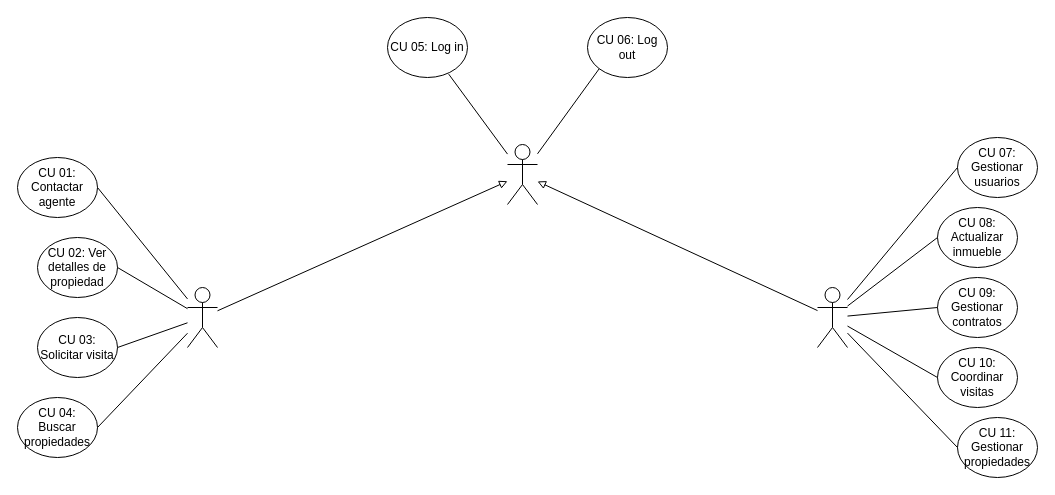
Some shapes in this 1055 by 495 pixel diagram are drawn without their labels. Here are the shapes that lost their labels. From the top down, the centre of each, then its label:
the point at 522,174: Actor 02 - Usuario del software
the point at 202,317: Actor 01 - Cliente
the point at 832,317: Actor 03 - Empleado
